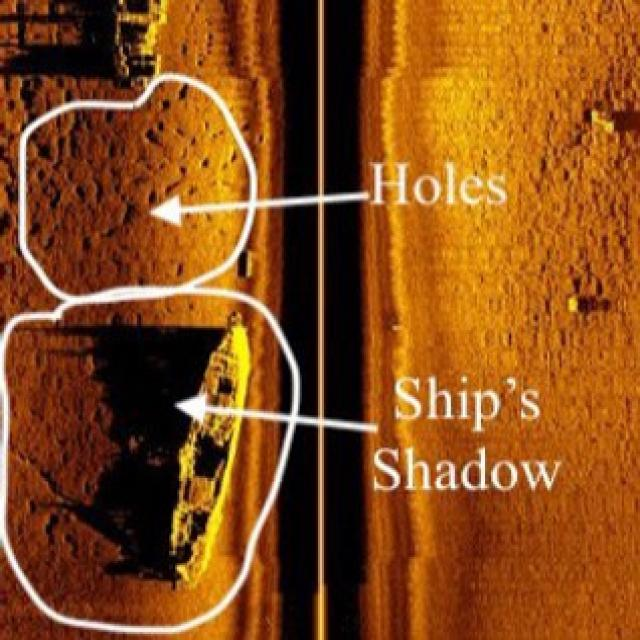ship: (161, 310, 250, 585), (99, 0, 165, 91)
